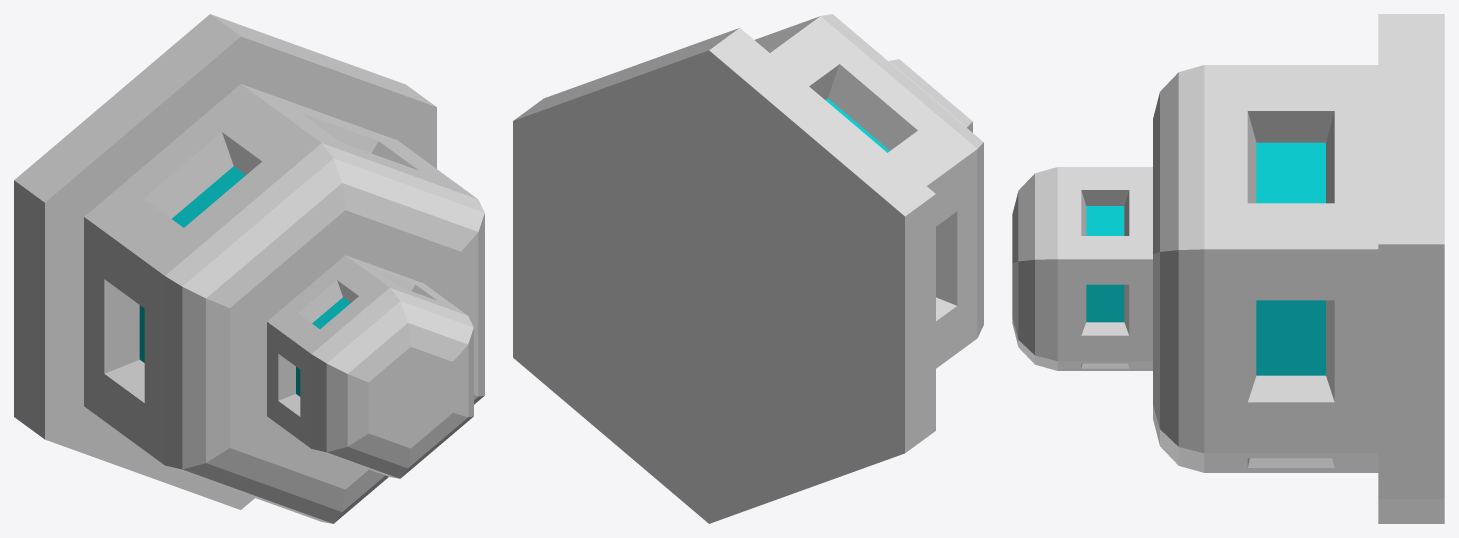
Rendered from Hexagon decoration2.fbx.
3 renders of one model, left to right at view 1: azimuth 30°, elevation 25°; view 2: azimuth 150°, elevation 25°; view 3: azimuth 270°, elevation 25°, orthographic. The views are drawn at different scales.
Parts seen in each view (by area): view 1: Circle.001; view 2: Circle.001; view 3: Circle.001.
Boxes of the visible parts, box(x1,y1,x2,y2) form: Circle.001: box(14, 14, 484, 523); Circle.001: box(513, 14, 983, 523); Circle.001: box(1012, 14, 1444, 523).
Bounding box in the file's own units: 173 × 200 × 154.
